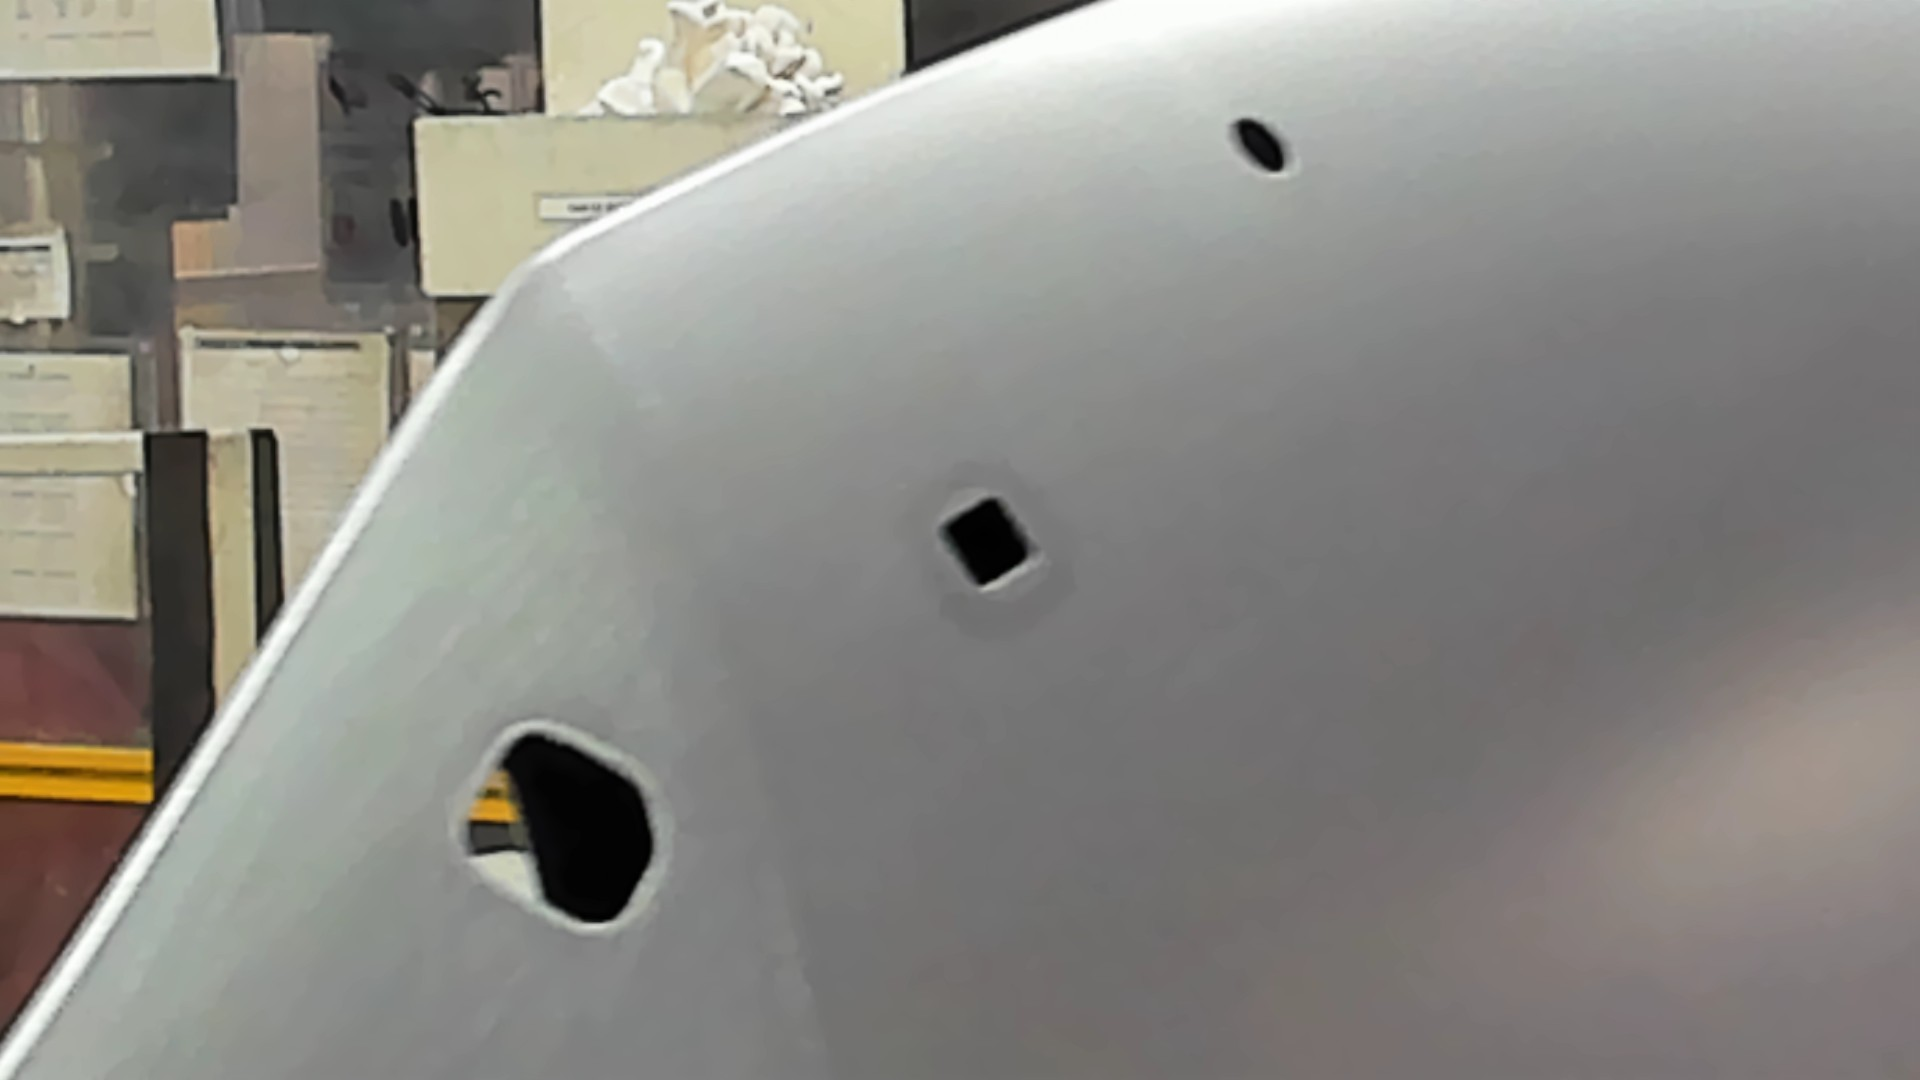capo: (1051, 189, 1920, 1080)
chico: (1222, 113, 1302, 185)
grande: (446, 717, 674, 944)
mediano: (928, 487, 1043, 599)
